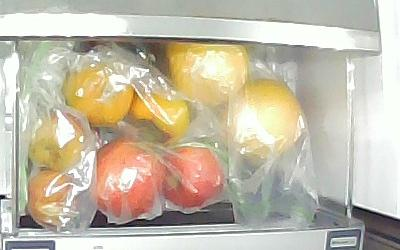apple_vinyl: (90, 137, 160, 218), (160, 145, 225, 207)
grapefruit_vinyl: (221, 80, 305, 168), (166, 43, 249, 105)
persimmon_vinyl: (62, 61, 135, 129), (131, 85, 192, 144)
prune_vinyl: (26, 171, 87, 231), (29, 111, 85, 171)
